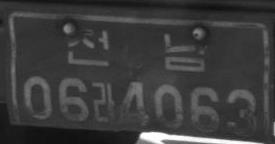0: (153, 82, 184, 130), (22, 74, 53, 121)
3: (226, 87, 258, 137)
4: (118, 80, 150, 127)
6: (189, 85, 221, 135), (57, 76, 90, 124)
라: (91, 81, 115, 124)
전남_D: (66, 24, 208, 73)
